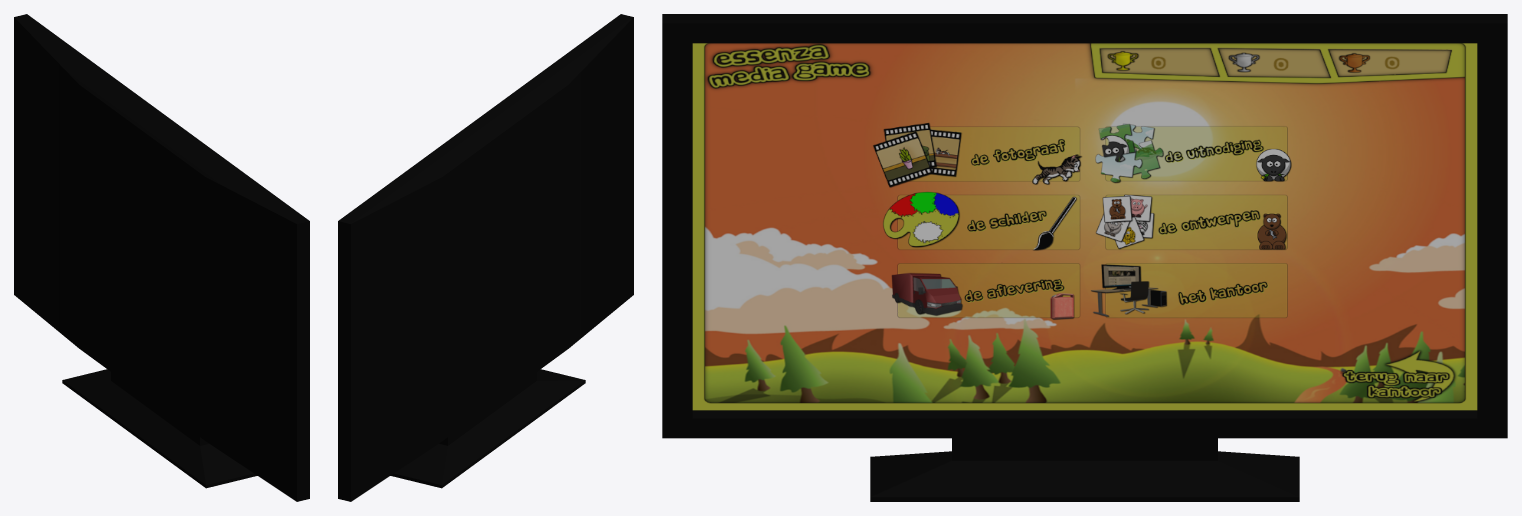
The model's file is Computerscherm_3DWereld_Ready.fbx.
The picture shows the model from 3 angles, left to right: view 1: azimuth 30°, elevation 25°; view 2: azimuth 150°, elevation 25°; view 3: azimuth 270°, elevation 25°; orthographic projection. The views are drawn at different scales.
Parts seen in each view (by area): view 1: pCube1; view 2: pCube1; view 3: pCube1.
Boxes of the visible parts, <box> form: pCube1: <box>14,14,309,501</box>; pCube1: <box>338,14,633,501</box>; pCube1: <box>662,14,1507,501</box>.
Size of the model in its own units: 2.01 by 10.73 by 17.75.
Materials: 2 (1 with a texture image).
